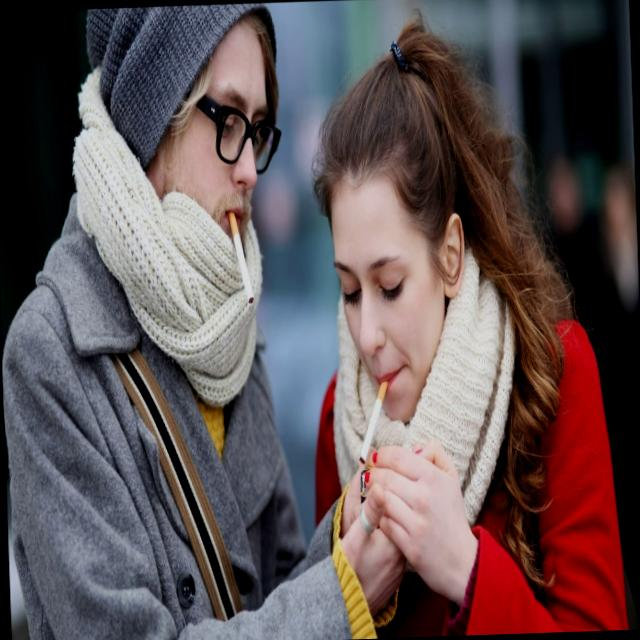smoke: (352, 374, 393, 474), (222, 205, 255, 311)
